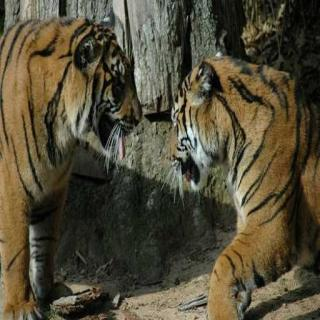Tiger: (0, 2, 163, 320), (147, 27, 320, 320)
